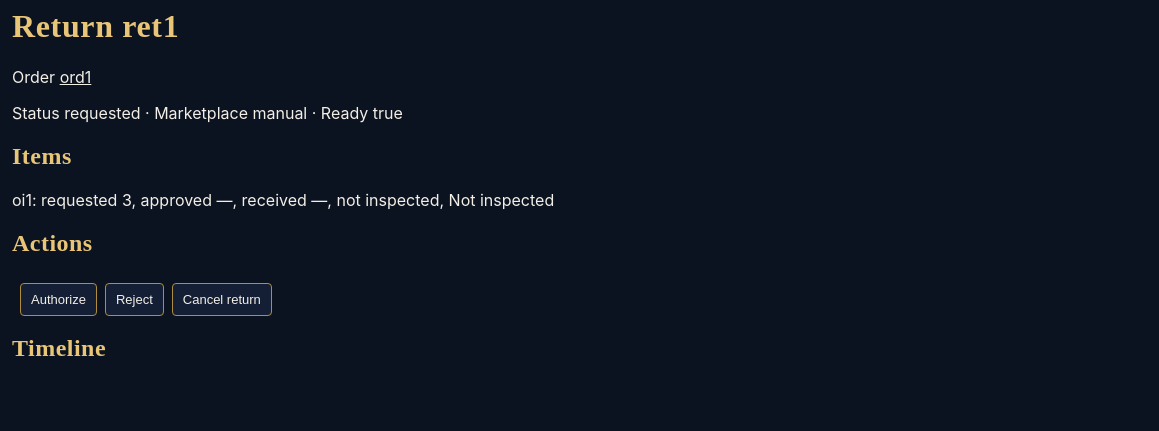
Test case: Return detail lifecycle actions (Sprint 56B) › displays a concurrency conflict distinctly from an ordinary validation error
The image size is (1159, 431).
Click the button "Authorize".
click(58, 299)  # box [20,282,97,316]
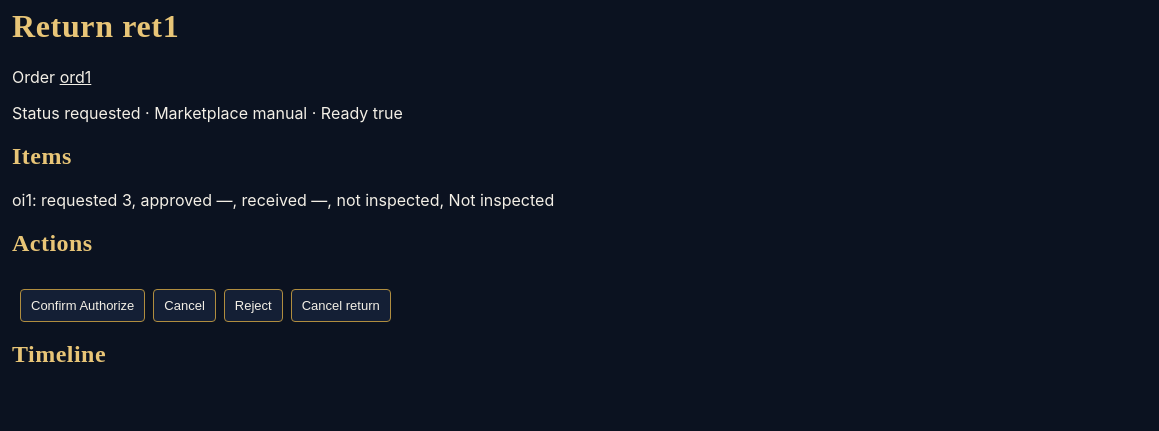
Click the button "Confirm Authorize".
click(83, 305)  # box [20,288,145,322]
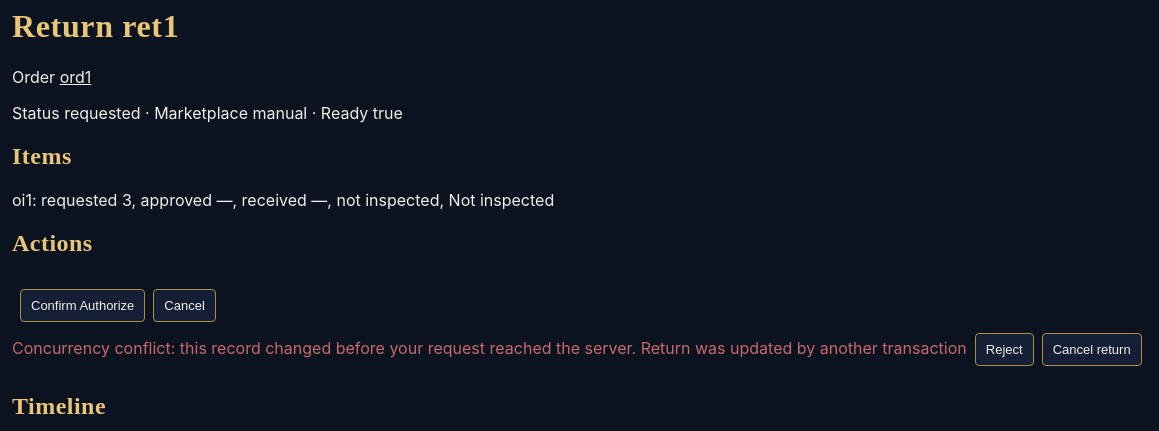
Now the message shows "Concurrency conflict", box [12,338,967,358]
